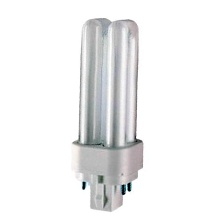light_bulb: (66, 14, 148, 215)
